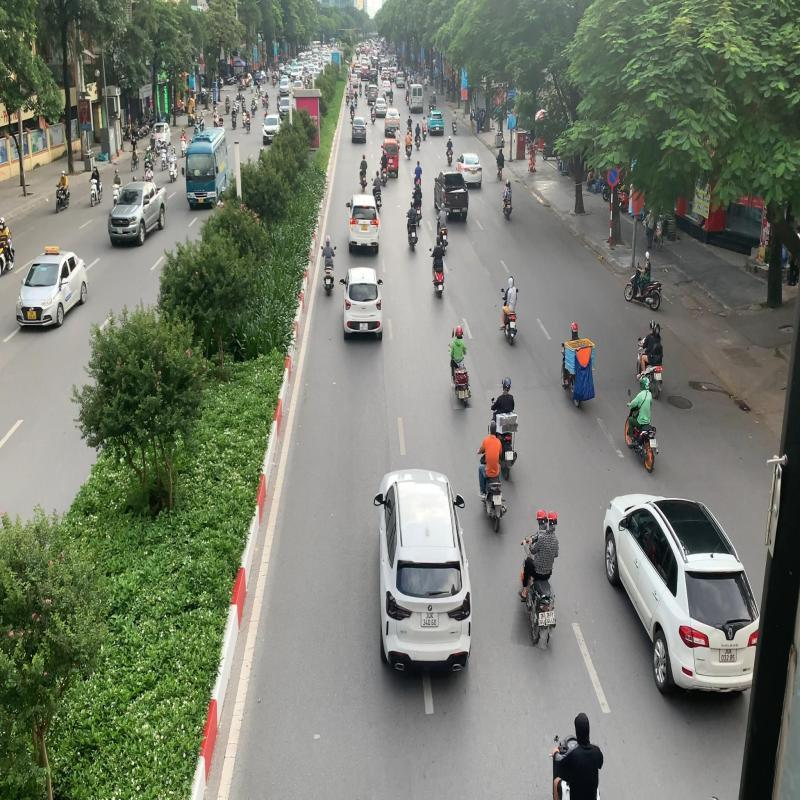helmet: (537, 508, 549, 530), (489, 420, 499, 436), (502, 375, 511, 392), (454, 325, 464, 339), (641, 375, 650, 390)
licenseplate: (545, 611, 555, 625), (492, 495, 501, 505), (506, 451, 514, 461), (649, 438, 657, 448), (458, 390, 465, 399)
motorcyclist: (515, 506, 562, 648), (475, 419, 508, 534), (624, 374, 659, 476), (492, 375, 519, 481), (446, 324, 471, 410)
